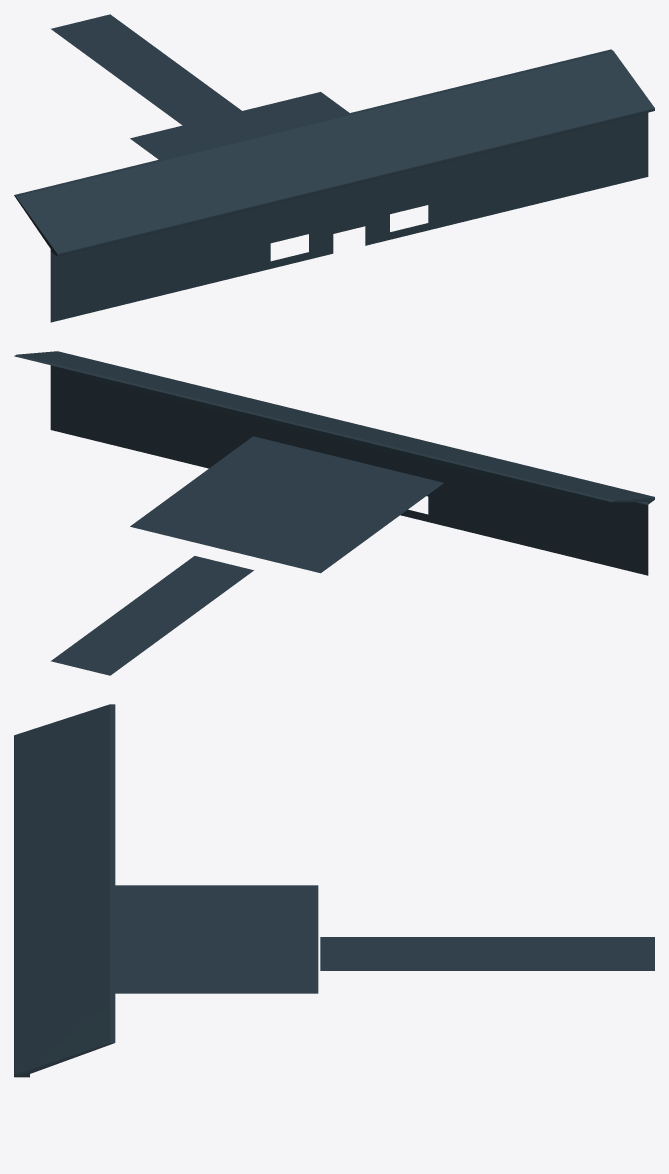
The model's file is School_Facade.fbx.
3 renders of one model, top to bottom at view 1: azimuth 30°, elevation 25°; view 2: azimuth 150°, elevation 25°; view 3: azimuth 270°, elevation 25°, orthographic. The views are drawn at different scales.
Parts seen in each view (by area): view 1: SchoolFacade, Ceiling_Corridor, Ceiling_Lobby; view 2: SchoolFacade, Ceiling_Lobby, Ceiling_Corridor; view 3: SchoolFacade, Ceiling_Lobby, Ceiling_Corridor.
Part boxes in pixels (<box>): SchoolFacade: <box>14,49,654,322</box>; Ceiling_Corridor: <box>51,14,241,125</box>; Ceiling_Lobby: <box>130,92,349,159</box>; SchoolFacade: <box>14,351,654,575</box>; Ceiling_Lobby: <box>130,436,443,573</box>; Ceiling_Corridor: <box>51,556,253,675</box>; SchoolFacade: <box>14,704,115,1077</box>; Ceiling_Lobby: <box>115,885,318,993</box>; Ceiling_Corridor: <box>320,937,654,970</box>.
Bounding box in the file's own units: 250 × 40.25 × 200.
